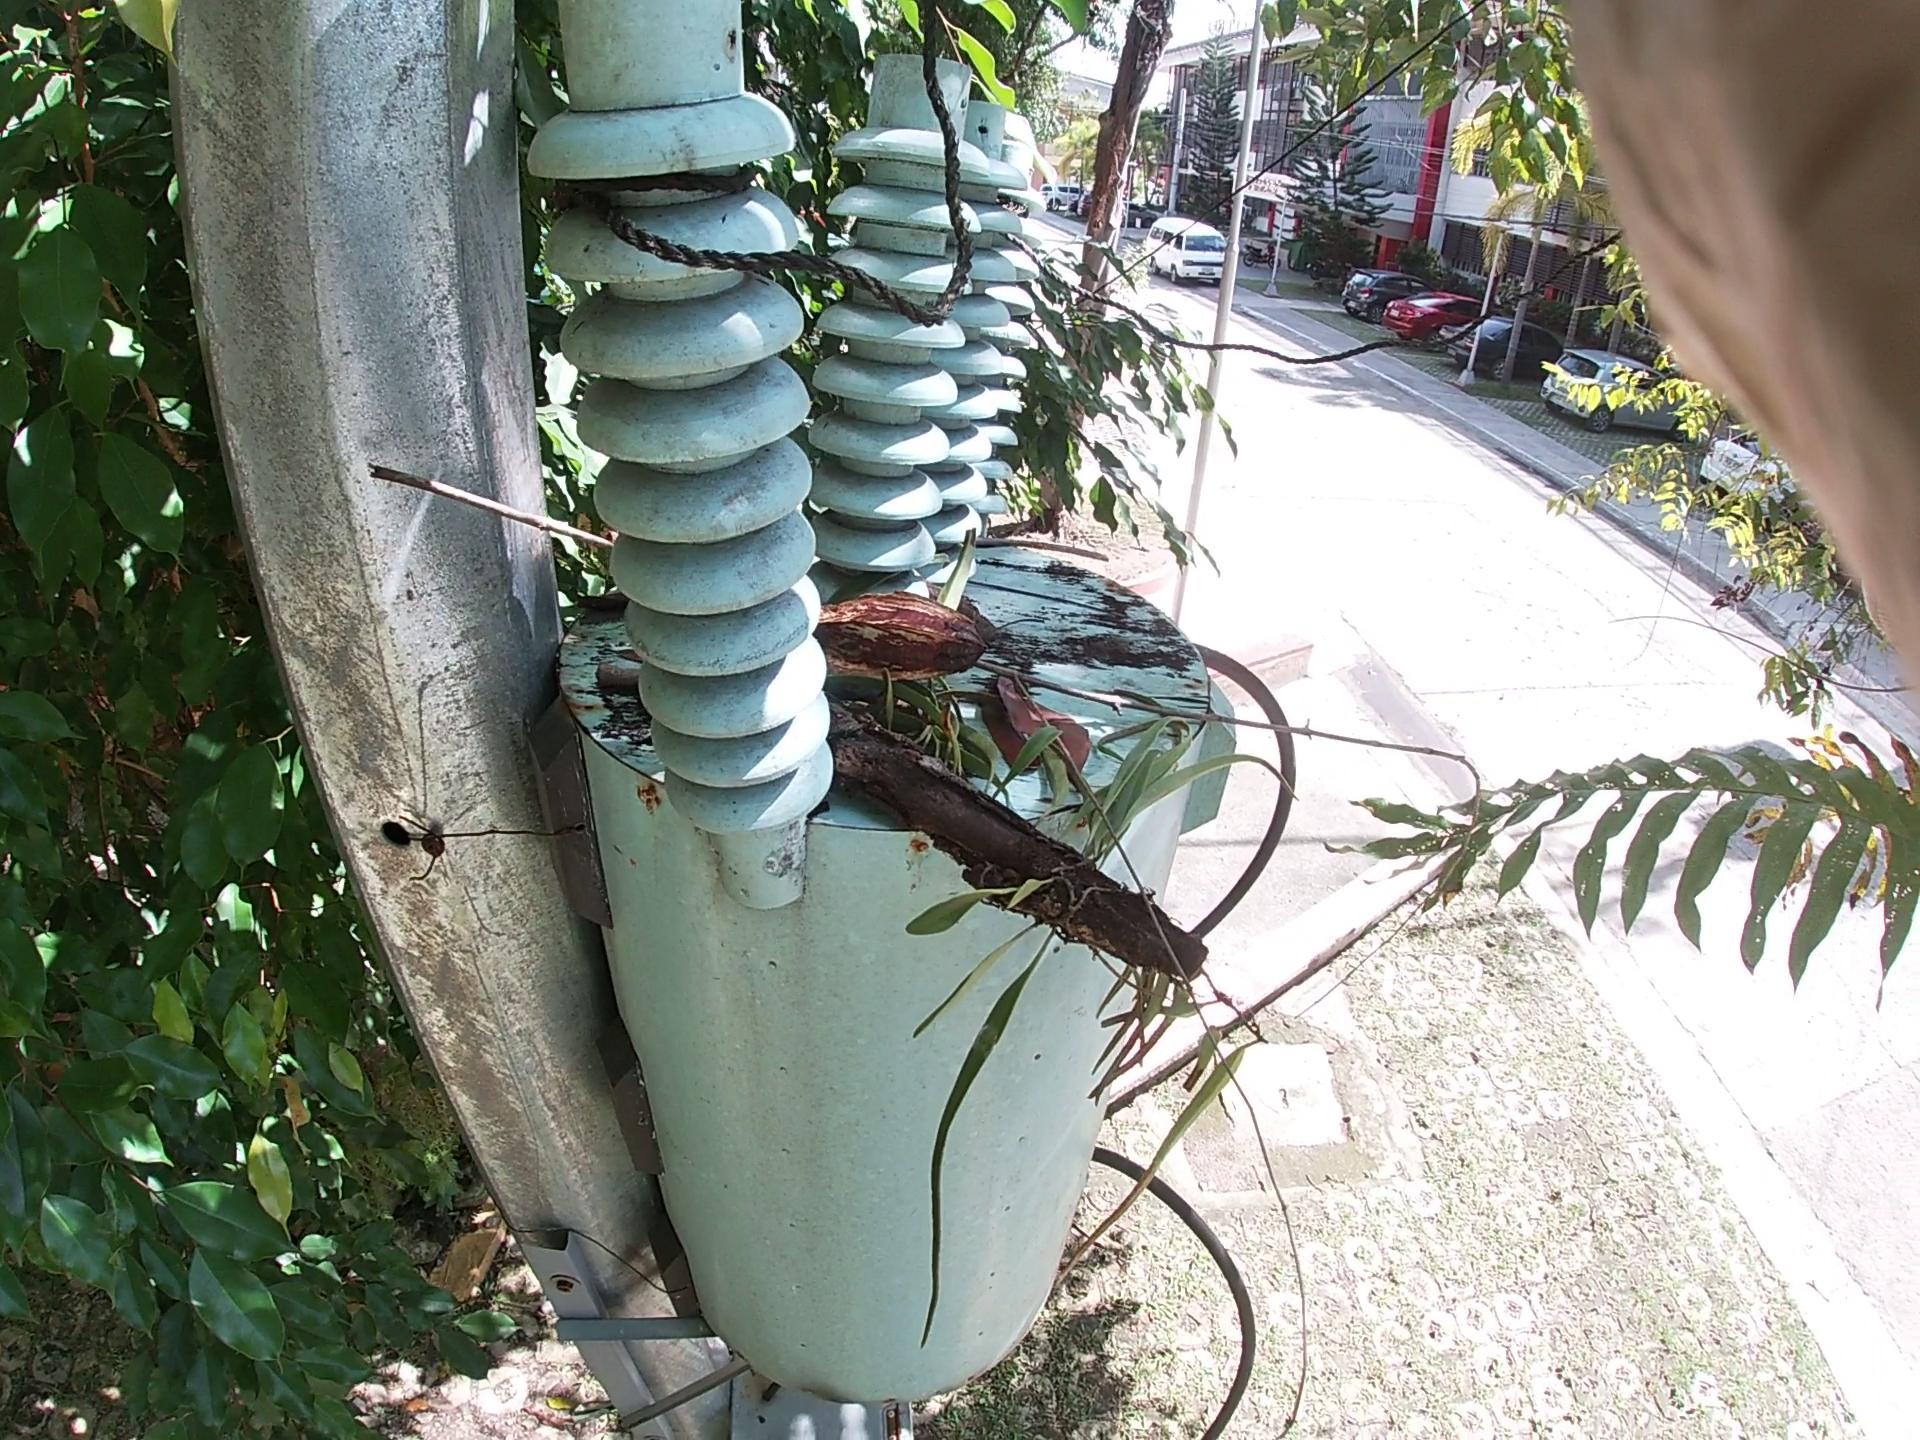branch with leaves: (791, 672, 1274, 1032)
leaf: (962, 653, 1114, 806)
mahogany fruit: (791, 564, 919, 693), (993, 675, 1079, 759)
tree branch: (337, 414, 1525, 920), (878, 484, 1170, 625)
